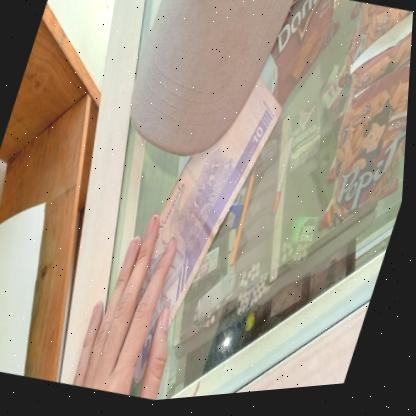ten-back-vef: (80, 54, 297, 407)
